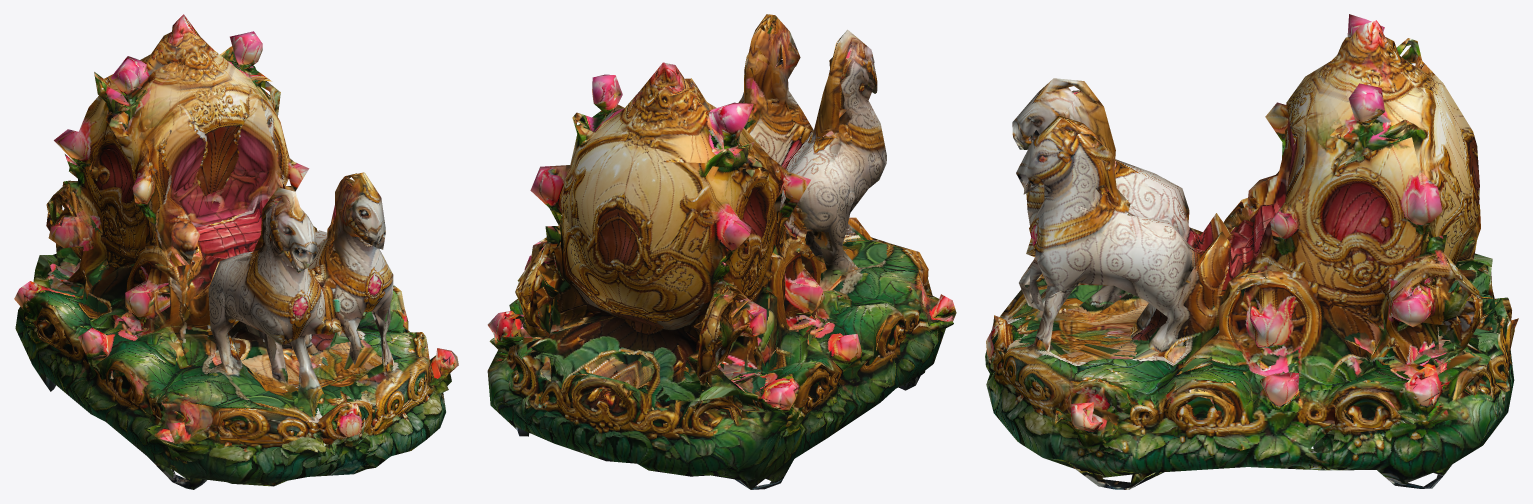
File: 롯데_퍼레이드카4.glb
3 views of the same model, side by side, from view 1: azimuth 30°, elevation 25°; view 2: azimuth 150°, elevation 25°; view 3: azimuth 270°, elevation 25° (orthographic). The views are drawn at different scales.
Visible parts, largest first — view 1: texture_mapping; view 2: texture_mapping; view 3: texture_mapping.
Part boxes in pixels (box(x1,y1,x2,y2)): texture_mapping: box(14, 14, 458, 489); texture_mapping: box(487, 14, 956, 489); texture_mapping: box(985, 14, 1518, 489).
Bounding box in the file's own units: 0.736 × 0.8231 × 0.9719.
1 material, 1 textured.
